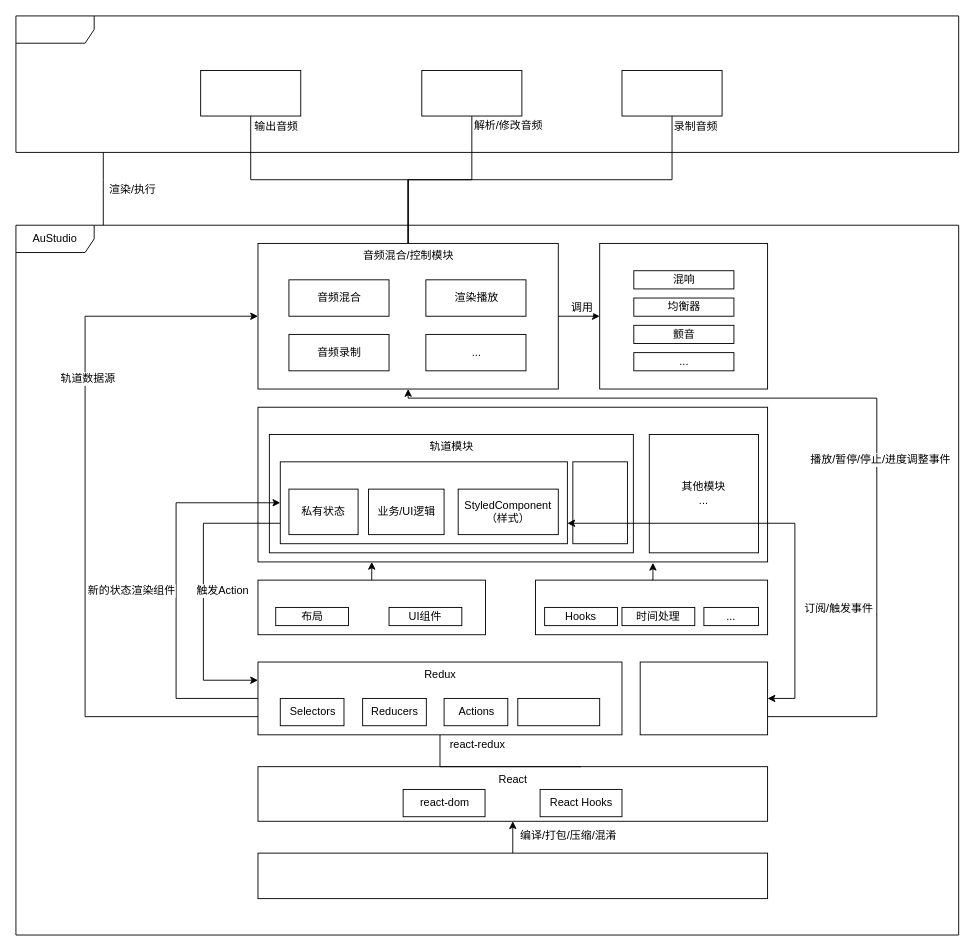
This 975x951 diagram has some shape labels left out. The box of each missing label's shape, as (x1, y1, x2, y2) in pixels:
EventEmiiter: (639, 661, 768, 735)
MediaDevices: (200, 70, 301, 116)
Sagas/Effects: (517, 698, 600, 726)
TypeScript/WebPack/Babel: (257, 852, 768, 899)
WebAudioAPI: (421, 70, 522, 116)
WebRTC API: (621, 70, 722, 116)
业务模块: (257, 406, 768, 562)
公共方法: (535, 579, 768, 635)
公共组件: (257, 579, 485, 635)
其他组件 ...: (572, 461, 627, 544)
用户浏览器: (15, 15, 959, 152)
轨道组件: (279, 461, 567, 544)
音效模块: (599, 243, 768, 389)
